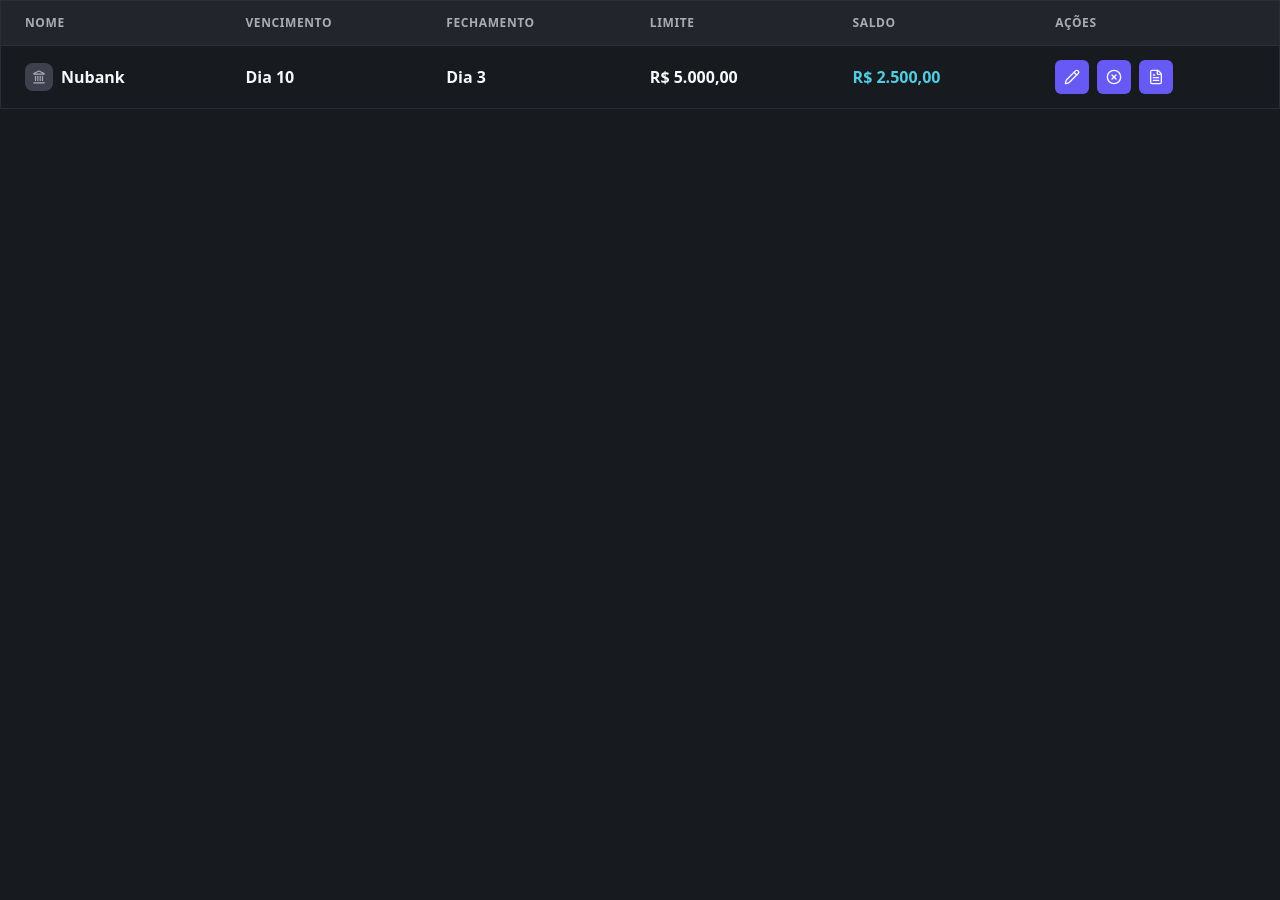
Scenario: TabelaCartoes › modal de alteração de status › deve abrir modal 'Desativar Cartão' para cartão ativo
Click the 2nd button at (1114, 77), box [1097,60,1131,94]
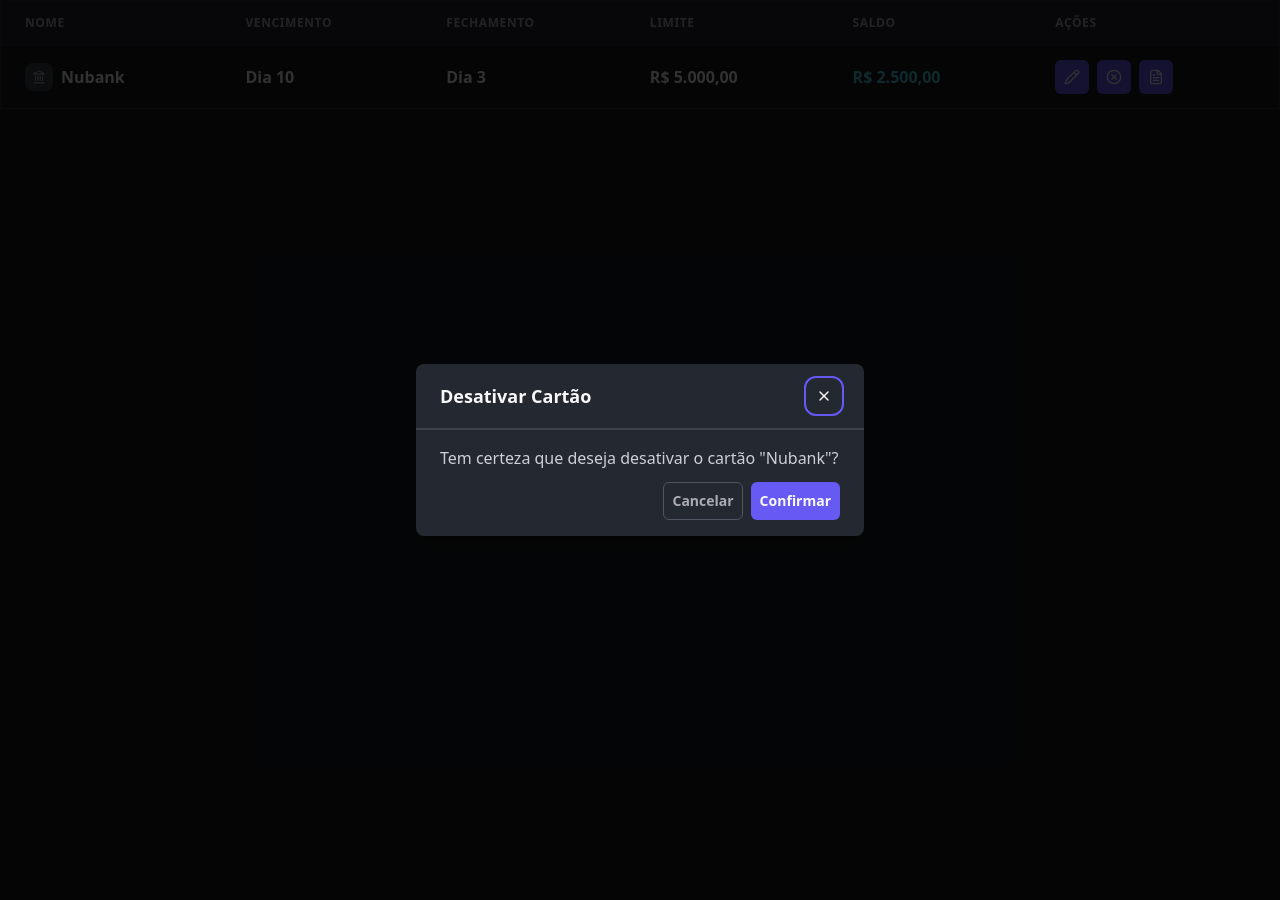
expect the dialog "Desativar Cartão" is shown: met, box [416,364,864,536]
expect the text "Tem certeza que deseja desativar o cartão \"Nubank\"?" is shown: met, box [440,446,840,470]
